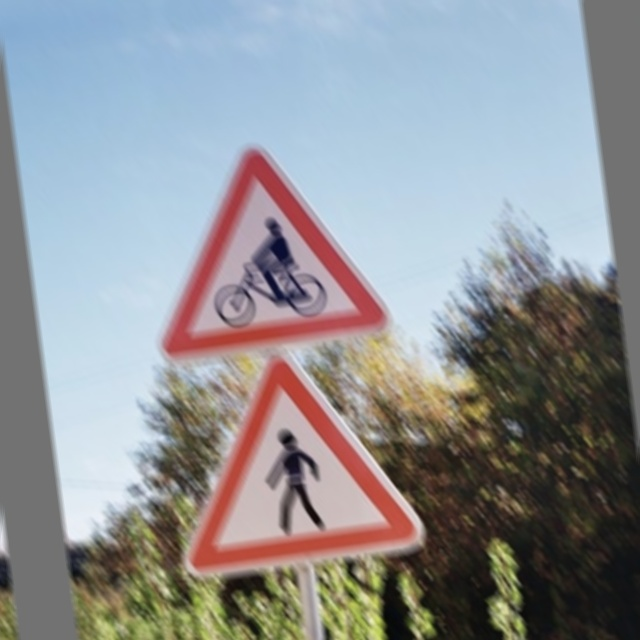Cycle_Crossing: (130, 128, 392, 369)
